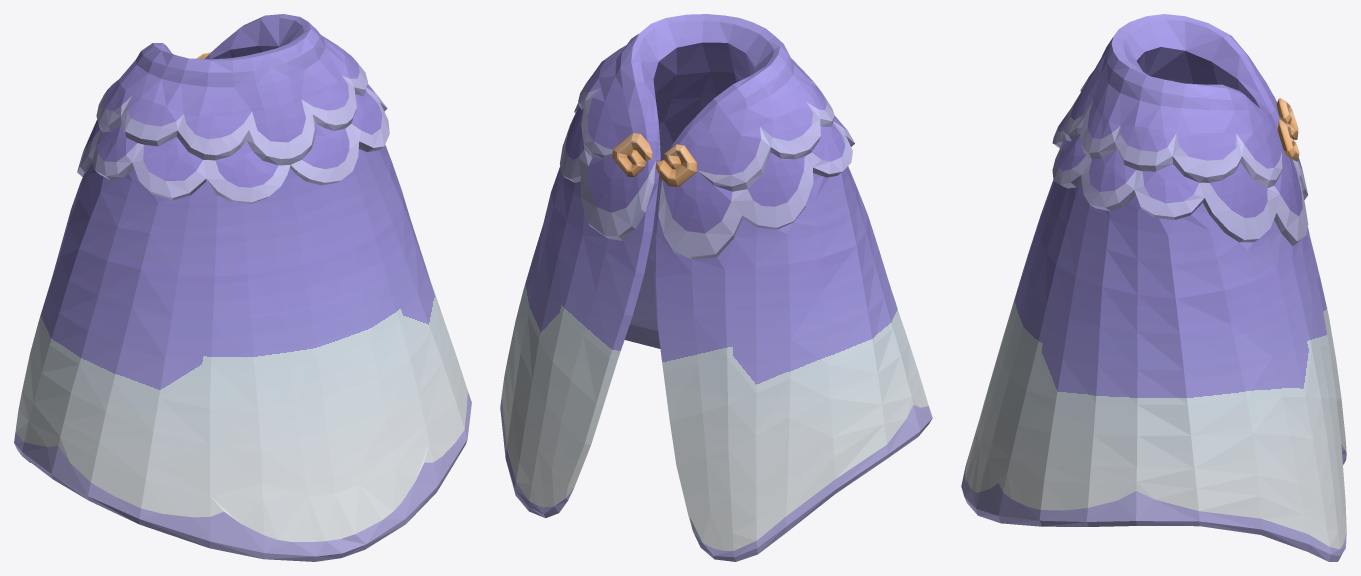
File: CharSkyKid_Wing_AP23CellistCloak.glb
3 renders of one model, left to right at view 1: azimuth 30°, elevation 25°; view 2: azimuth 150°, elevation 25°; view 3: azimuth 270°, elevation 25°, orthographic. The views are drawn at different scales.
Parts seen in each view (by area): view 1: CharSkyKid_Wing_AP23CellistCloak; view 2: CharSkyKid_Wing_AP23CellistCloak; view 3: CharSkyKid_Wing_AP23CellistCloak.
Part boxes in pixels (x1,y1,x2,y2): CharSkyKid_Wing_AP23CellistCloak: [14, 14, 471, 561]; CharSkyKid_Wing_AP23CellistCloak: [500, 14, 932, 561]; CharSkyKid_Wing_AP23CellistCloak: [961, 14, 1346, 561].
Bounding box in the file's own units: 6.24 × 6.83 × 5.12.
1 material, 1 textured.
